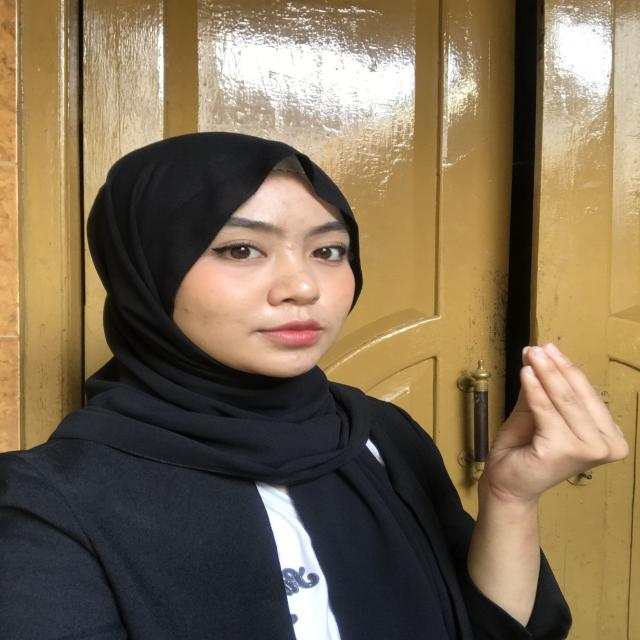kapan: (460, 342, 632, 533)
